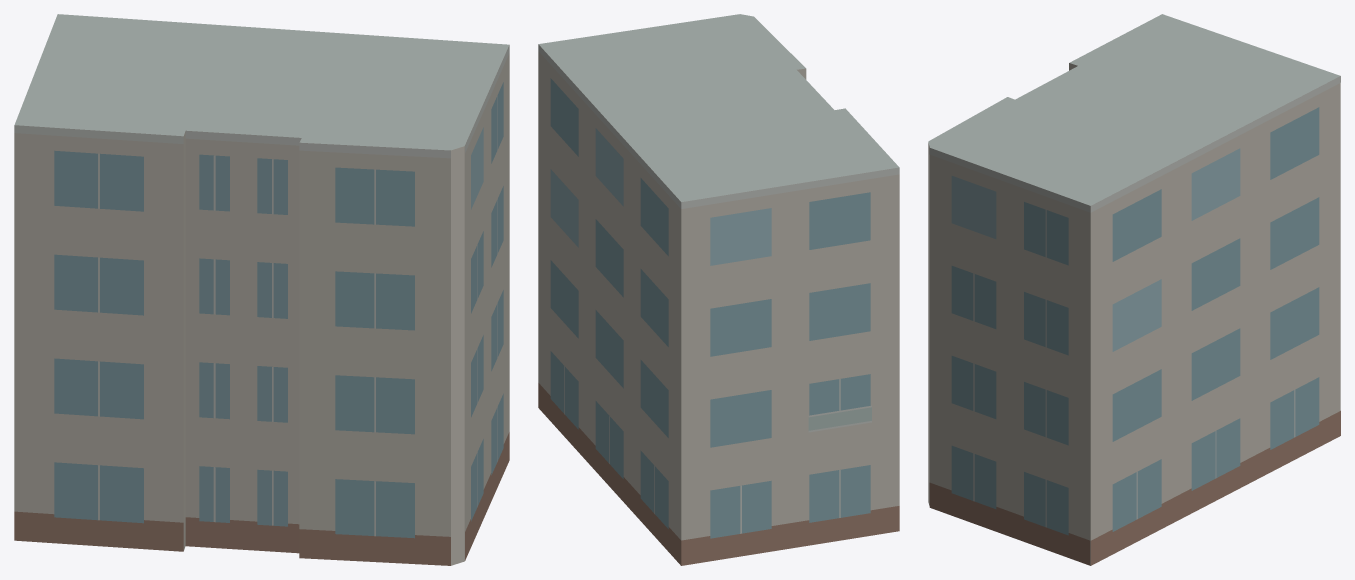
The model's file is survey-upis-32697582.glb.
3 views of the same model, side by side, from view 1: azimuth 30°, elevation 25°; view 2: azimuth 150°, elevation 25°; view 3: azimuth 270°, elevation 25° (orthographic). The views are drawn at different scales.
Parts seen in each view (by area): view 1: survey-upis-32697582.tmp; view 2: survey-upis-32697582.tmp; view 3: survey-upis-32697582.tmp.
Boxes of the visible parts, <box> form: survey-upis-32697582.tmp: <box>14,14,509,565</box>; survey-upis-32697582.tmp: <box>538,14,899,565</box>; survey-upis-32697582.tmp: <box>928,14,1340,565</box>.
Size of the model in its own units: 14.64 by 12.8 by 13.31.
